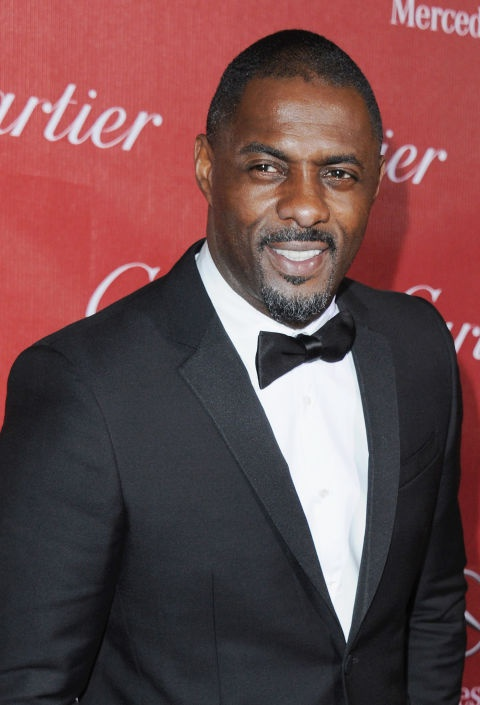bad: (218, 133, 373, 288)
